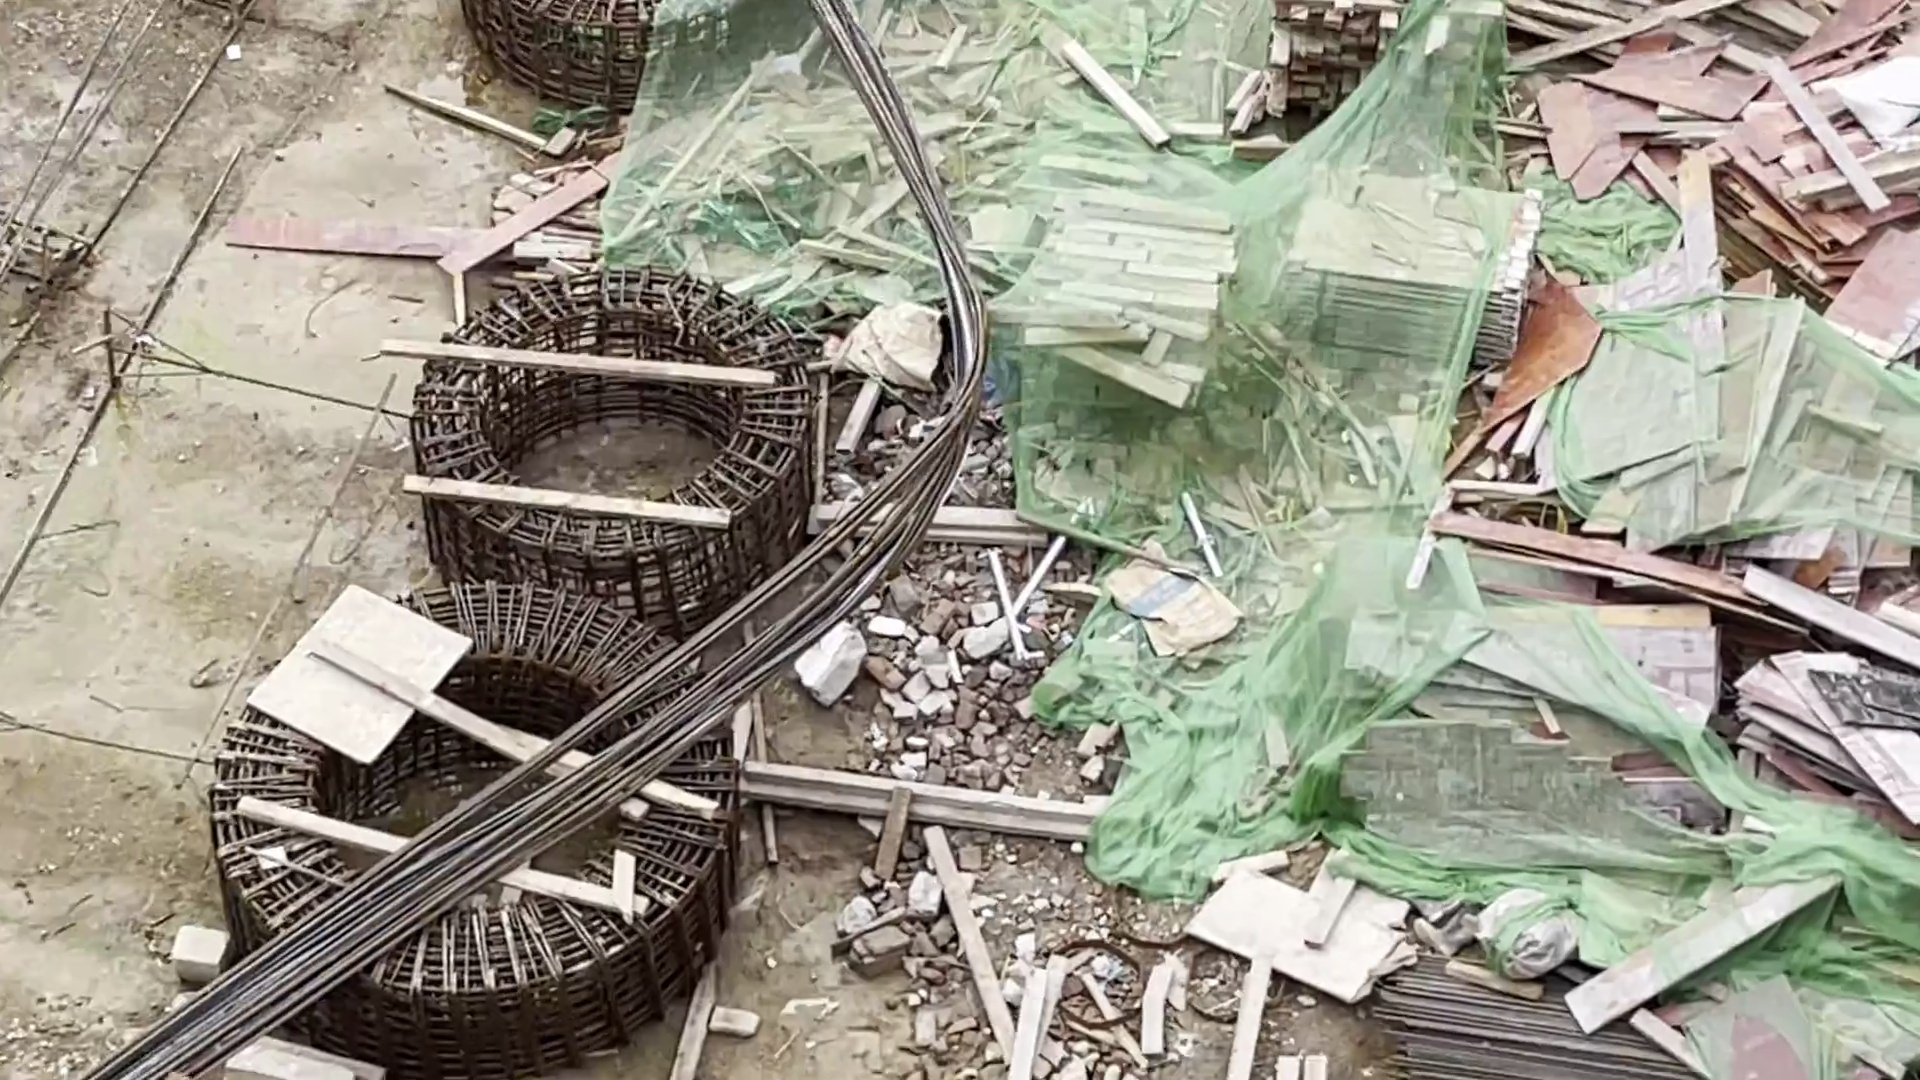board: (1304, 167, 1520, 351)
rebar: (104, 386, 961, 1072), (814, 4, 989, 377), (1400, 955, 1655, 1080)
wood: (1058, 196, 1197, 411)
